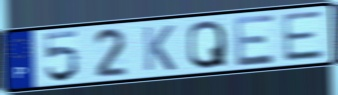2: (92, 27, 129, 79)
5: (43, 28, 82, 84)
E: (279, 9, 328, 64), (232, 12, 278, 69)
K: (141, 24, 178, 73)
Q: (186, 18, 229, 71)
